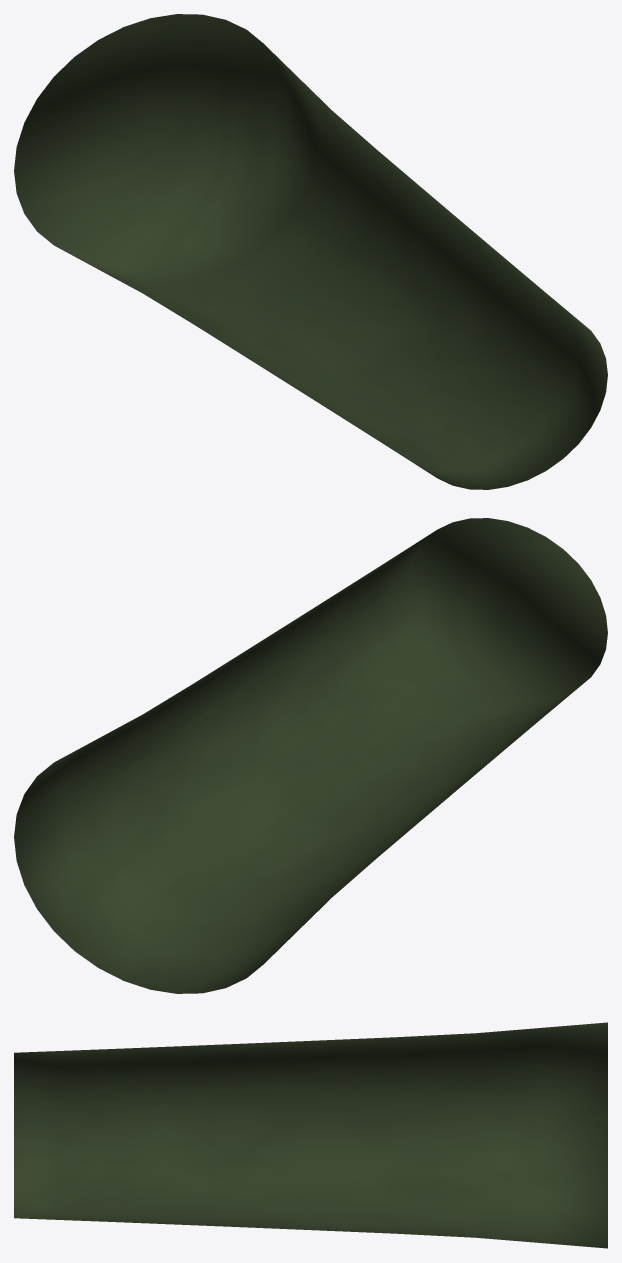
The model's file is arm.glb.
3 renders of one model, top to bottom at view 1: azimuth 30°, elevation 25°; view 2: azimuth 150°, elevation 25°; view 3: azimuth 270°, elevation 25°, orthographic. The views are drawn at different scales.
Visible parts, largest first — view 1: arm; view 2: arm; view 3: arm.
Part boxes in pixels (<box>): arm: <box>14,14,607,489</box>; arm: <box>14,518,607,993</box>; arm: <box>14,1022,607,1248</box>.
Size of the model in its own units: 0.1232 by 0.103 by 0.28.
1 material, 1 textured.
